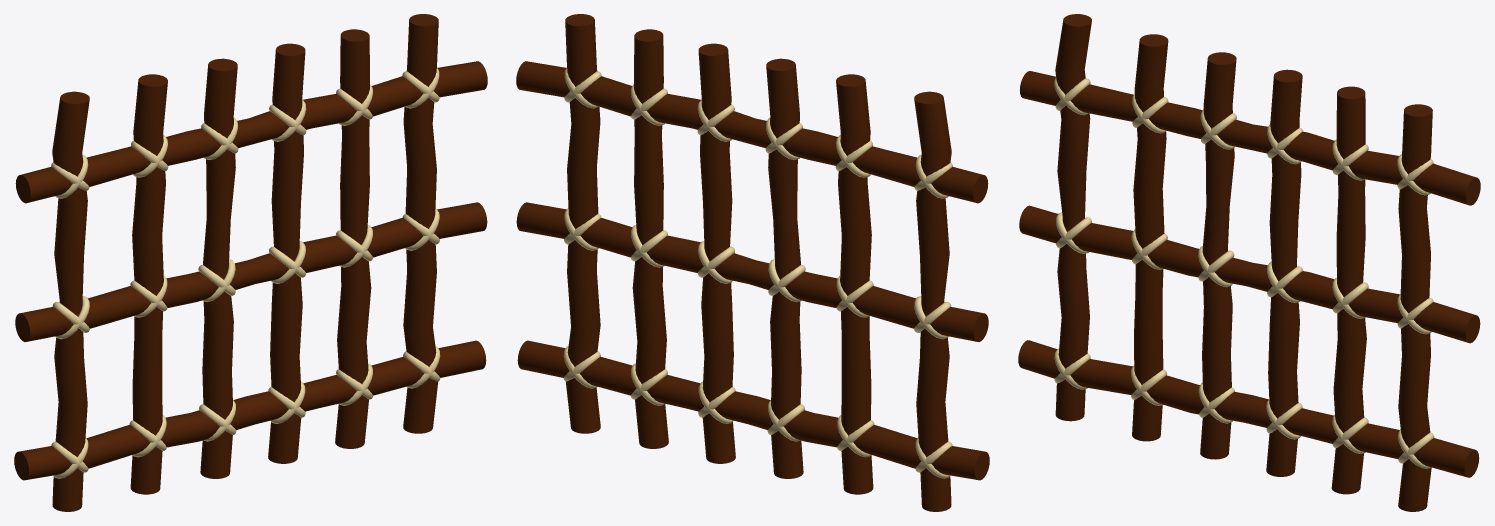
File: WoodGate.fbx
3 views of the same model, side by side, from view 1: azimuth 30°, elevation 25°; view 2: azimuth 150°, elevation 25°; view 3: azimuth 330°, elevation 25° (orthographic). The views are drawn at different scales.
Parts seen in each view (by area): view 1: CageTwig1, CageTwig5, CageTwig3, CageTwig6, CageTwig4, CageTwig, CageTwig7, CageTwig8, CageTwig2; view 2: CageTwig1, CageTwig5, CageTwig3, CageTwig6, CageTwig4, CageTwig, CageTwig7, CageTwig8, CageTwig2; view 3: CageTwig5, CageTwig6, CageTwig1, CageTwig7, CageTwig3, CageTwig4, CageTwig8, CageTwig, CageTwig2.
Part boxes in pixels (x1,y1,x2,y2): CageTwig1: (130, 74, 167, 494); CageTwig5: (403, 14, 438, 433); CageTwig3: (268, 43, 305, 463); CageTwig6: (14, 340, 486, 480); CageTwig4: (335, 29, 371, 448); CageTwig: (52, 91, 89, 511); CageTwig7: (15, 202, 487, 341); CageTwig8: (15, 61, 487, 203); CageTwig2: (200, 58, 237, 478); CageTwig1: (836, 74, 873, 494); CageTwig5: (565, 14, 600, 433); CageTwig3: (698, 43, 735, 463); CageTwig6: (517, 340, 989, 480); CageTwig4: (632, 29, 668, 448); CageTwig: (914, 91, 951, 511); CageTwig7: (516, 202, 988, 341); CageTwig8: (516, 61, 988, 203); CageTwig2: (766, 58, 803, 478); CageTwig5: (1398, 104, 1432, 511); CageTwig6: (1018, 340, 1479, 477); CageTwig1: (1132, 34, 1168, 441); CageTwig7: (1019, 205, 1480, 343); CageTwig3: (1266, 69, 1302, 476); CageTwig4: (1331, 86, 1366, 494); CageTwig8: (1020, 71, 1480, 205); CageTwig: (1055, 14, 1091, 421); CageTwig2: (1200, 52, 1236, 459).
Bounding box in the file's own units: 7.09 × 6.11 × 0.4721.
